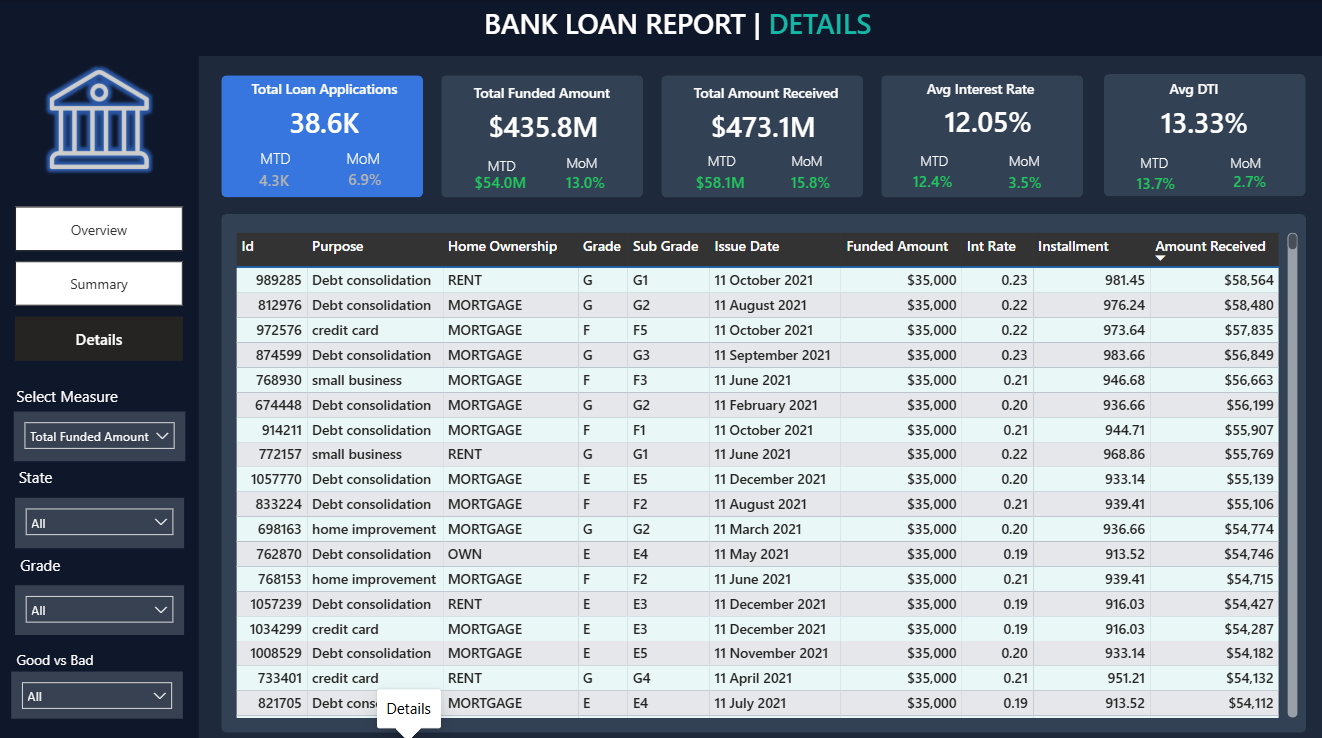

This screenshot's page, from the dashboard's own definition file:
{"tool":"powerbi","page":{"name":"Details","canvas":[1280,720],"ordinal":2},"visuals":[{"type":"shape","box":[213.5,207.5,1047.2,500.7],"z":0},{"type":"textbox","box":[14.5,530.8,71.2,38.6],"z":0,"group":"g7"},{"type":"image","box":[35,62.7,121.9,107.4],"z":1000,"group":"g7"},{"type":"shape","box":[214.1,74.1,194.9,118],"z":1000},{"type":"shape","box":[0,54.9,192.1,665.5],"z":2000},{"type":"shape","box":[0,0,1280.3,55],"z":3000},{"type":"group","id":"g1","title":"Group 2","box":[10.9,367.9,167.7,326.9],"z":3000,"group":"g7"},{"type":"textbox","box":[418.5,0,470.7,56.3],"z":4000},{"type":"cardVisual","title":"MOM","fields":{"Data":["bank_loan_data.MoM Funded Amount"]},"box":[513.6,149,102.9,52.1],"z":4000,"group":"g3"},{"type":"cardVisual","title":"MOM","fields":{"Data":["bank_loan_data.MoM Amount Recieved"]},"box":[725.4,149,112.5,52.1],"z":4000,"group":"g4"},{"type":"cardVisual","title":"MOM","fields":{"Data":["bank_loan_data.MoM Avg DTI"]},"box":[1155.6,129.3,101.5,91.9],"z":5000,"group":"g6"},{"type":"textbox","box":[245.6,138.6,49.4,52.1],"z":5000},{"type":"cardVisual","title":"MOM","fields":{"Data":["bank_loan_data.MoM Loan Applications"]},"box":[296.3,148,111.1,50.8],"z":5000,"group":"g2"},{"type":"cardVisual","title":"MOM","fields":{"Data":["bank_loan_data.MoM Avg Int"]},"box":[934.7,150.4,111.1,50.8],"z":5000,"group":"g5"},{"type":"cardVisual","fields":{"Data":["bank_loan_data.Avg Int Rate"]},"box":[857.2,86.4,194.9,59],"z":6000,"group":"g5"},{"type":"cardVisual","fields":{"Data":["bank_loan_data.Total Loan Applications"]},"box":[215.4,87.8,194.9,59],"z":6000,"group":"g2"},{"type":"cardVisual","fields":{"Data":["bank_loan_data.Avg DTI"]},"box":[1064.8,87.8,194.9,59],"z":6000,"group":"g6"},{"type":"cardVisual","fields":{"Data":["bank_loan_data.Total Funded Amount"]},"box":[426.8,90.6,194.9,59],"z":6000,"group":"g3"},{"type":"cardVisual","fields":{"Data":["bank_loan_data.Total Amount Recieved"]},"box":[639.1,90.6,194.9,59],"z":6000,"group":"g4"},{"type":"textbox","box":[329.3,138.6,56.3,38.4],"z":6000},{"type":"group","id":"g2","title":"Group 1","box":[215.4,72.7,194.9,127.6],"z":7000},{"type":"cardVisual","title":"MTD","fields":{"Data":["bank_loan_data.MTD Loan Applications"]},"box":[215.5,145.9,97.4,54.9],"z":7000,"group":"g2"},{"type":"cardVisual","title":"MTD","fields":{"Data":["bank_loan_data.Mtd Avg Int"]},"box":[836.5,147.7,129,52.1],"z":7000,"group":"g5"},{"type":"cardVisual","title":"MTD","fields":{"Data":["bank_loan_data.Mtd Avg DTI"]},"box":[1066.4,148.5,98.8,57.6],"z":7000,"group":"g6"},{"type":"cardVisual","title":"MTD","fields":{"Data":["bank_loan_data.MTD todal funded amount"]},"box":[423,149,119.4,52.1],"z":7000,"group":"g3"},{"type":"cardVisual","title":"MTD","fields":{"Data":["bank_loan_data.MTD Amount Recieved"]},"box":[635.3,149,119.4,52.1],"z":7000,"group":"g4"},{"type":"textbox","box":[871.5,72.2,170.2,35.7],"z":8000,"group":"g5"},{"type":"textbox","box":[237.4,72.7,170.2,35.7],"z":8000,"group":"g2"},{"type":"textbox","box":[1086.8,72.7,170.2,35.7],"z":8000,"group":"g6"},{"type":"shape","box":[426.1,74.1,194.9,118],"z":8000},{"type":"textbox","box":[448.7,75.5,170.2,35.7],"z":8000,"group":"g3"},{"type":"textbox","box":[661,75.5,170.2,35.7],"z":8000,"group":"g4"},{"type":"group","id":"g3","title":"Group 1","box":[423,75.5,198.6,125.6],"z":9000},{"type":"shape","box":[638.1,74.1,194.9,118],"z":10000},{"type":"shape","box":[850.1,74.1,194.9,118],"z":11000},{"type":"shape","box":[1064.8,72.7,194.9,118],"z":12000},{"type":"textbox","box":[408.9,244.3,194.9,9.6],"z":13000},{"type":"textbox","box":[1182.9,144.1,54.9,34.3],"z":14000},{"type":"textbox","box":[542,144.1,52.1,41.2],"z":15000},{"type":"textbox","box":[465.2,146.8,57.6,27.4],"z":16000},{"type":"group","id":"g4","title":"Group 1","box":[635.3,75.5,202.6,125.6],"z":17000},{"type":"textbox","box":[879.6,142.7,94.7,31.6],"z":18000},{"type":"textbox","box":[671,142.7,83.7,27.4],"z":19000},{"type":"textbox","box":[754.7,142.7,83.7,31.6],"z":20000},{"type":"group","id":"g5","title":"Group 1","box":[836.5,72.2,215.6,129],"z":21000},{"type":"textbox","box":[968.8,142.7,75.5,38.4],"z":22000},{"type":"group","id":"g6","title":"Group 1","box":[1064.8,72.7,194.9,148.6],"z":23000},{"type":"textbox","box":[1095,144.1,50.8,41.2],"z":24000},{"type":"tableEx","fields":{"Values":["bank_loan_data.id","bank_loan_data.purpose","bank_loan_data.home_ownership","bank_loan_data.grade","bank_loan_data.sub_grade","bank_loan_data.issue_date","bank_loan_data.Total Funded Amount","Sum(bank_loan_data.int_rate)","Sum(bank_loan_data.installment)","bank_loan_data.Total Amount Received"]},"box":[222,220.8,1035.1,477.8],"z":25000},{"type":"slicer","fields":{"Values":["bank_loan_data.address_state"]},"box":[14.5,481.3,162.9,48.9],"z":25000,"group":"g1"},{"type":"group","id":"g7","title":"Group 3","box":[10.9,62.7,167.7,632.2],"z":26000},{"type":"slicer","fields":{"Values":["bank_loan_data.grade"]},"box":[14.5,565.8,162.9,47.8],"z":26000,"group":"g1"},{"type":"pageNavigator","box":[14.5,200.3,162.9,150.8],"z":27000},{"type":"slicer","fields":{"Values":["bank_loan_data.Good vs Bad Loan"]},"box":[10.9,649.3,165.3,45.6],"z":27000,"group":"g1"},{"type":"textbox","box":[13.3,445.7,71.2,35.6],"z":28000,"group":"g1"},{"type":"textbox","box":[10.9,623.7,127.9,33.4],"z":29000,"group":"g1"},{"type":"slicer","fields":{"Values":["Select Measure.Select Measure"]},"box":[13.3,397.9,165.3,47.8],"z":31000,"group":"g1"},{"type":"textbox","box":[10.9,367.9,127.9,35.6],"z":32000,"group":"g1"}]}

Visuals, with their boxes in screenshot pixels (x1, y1, x2, y2), scaled from the page's 1280x720 canvas onto the 1322x738 screenshot:
shape: (221,213,1302,726)
textbox: (15,544,89,584)
image: (36,64,162,174)
shape: (221,76,422,197)
shape: (0,56,198,737)
shape: (0,0,1321,56)
"Group 2" group: (11,377,184,712)
textbox: (432,0,918,58)
"MOM" cardVisual: (530,153,637,206)
"MOM" cardVisual: (749,153,865,206)
"MOM" cardVisual: (1194,133,1298,227)
textbox: (254,142,305,195)
"MOM" cardVisual: (306,152,421,204)
"MOM" cardVisual: (965,154,1080,206)
cardVisual - bank_loan_data.Avg Int Rate: (885,89,1087,149)
cardVisual - bank_loan_data.Total Loan Applications: (222,90,424,150)
cardVisual - bank_loan_data.Avg DTI: (1100,90,1301,150)
cardVisual - bank_loan_data.Total Funded Amount: (441,93,642,153)
cardVisual - bank_loan_data.Total Amount Recieved: (660,93,861,153)
textbox: (340,142,398,181)
"Group 1" group: (222,75,424,205)
"MTD" cardVisual: (223,150,323,206)
"MTD" cardVisual: (864,151,997,205)
"MTD" cardVisual: (1101,152,1203,211)
"MTD" cardVisual: (437,153,560,206)
"MTD" cardVisual: (656,153,779,206)
textbox: (900,74,1076,111)
textbox: (245,75,421,111)
textbox: (1122,75,1298,111)
shape: (440,76,641,197)
textbox: (463,77,639,114)
textbox: (683,77,858,114)
"Group 1" group: (437,77,642,206)
shape: (659,76,860,197)
shape: (878,76,1079,197)
shape: (1100,75,1301,195)
textbox: (422,250,624,260)
textbox: (1222,148,1278,183)
textbox: (560,148,614,190)
textbox: (480,150,540,179)
"Group 1" group: (656,77,865,206)
textbox: (908,146,1006,179)
textbox: (693,146,779,174)
textbox: (779,146,866,179)
"Group 1" group: (864,74,1087,206)
textbox: (1001,146,1079,186)
"Group 1" group: (1100,75,1301,227)
textbox: (1131,148,1183,190)
tableEx - bank_loan_data.id x bank_loan_data.purpose: (229,226,1298,716)
slicer - bank_loan_data.address_state: (15,493,183,543)
"Group 3" group: (11,64,184,712)
slicer - bank_loan_data.grade: (15,580,183,629)
pageNavigator: (15,205,183,360)
slicer - bank_loan_data.Good vs Bad Loan: (11,666,182,712)
textbox: (14,457,87,493)
textbox: (11,639,143,674)
slicer - Select Measure.Select Measure: (14,408,184,457)
textbox: (11,377,143,414)
